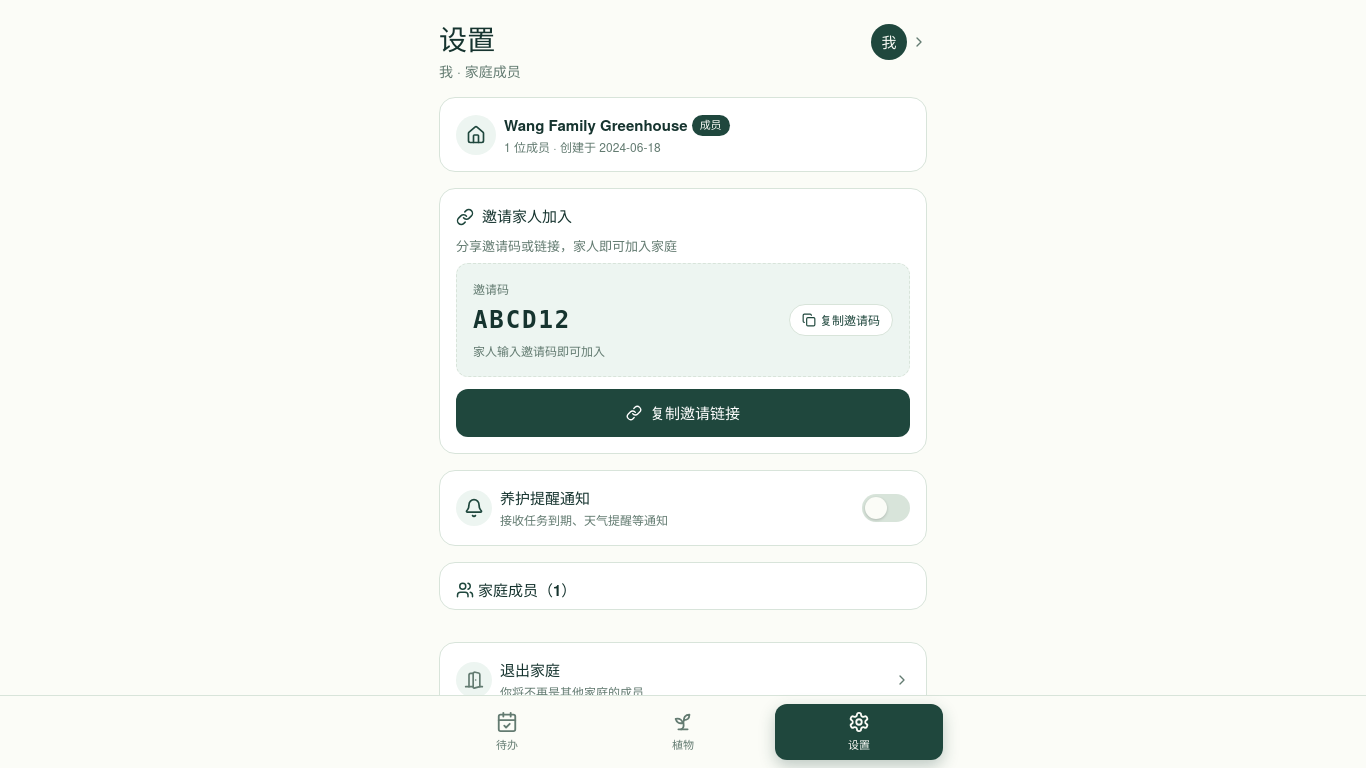
Scenario: AppShell smoke coverage › shows a manual copy fallback panel when clipboard write fails
What coordinates should you click on to do the following:
click the button "复制邀请码"
I would click on:
 (841, 320)
Its box is [789,304,893,336].
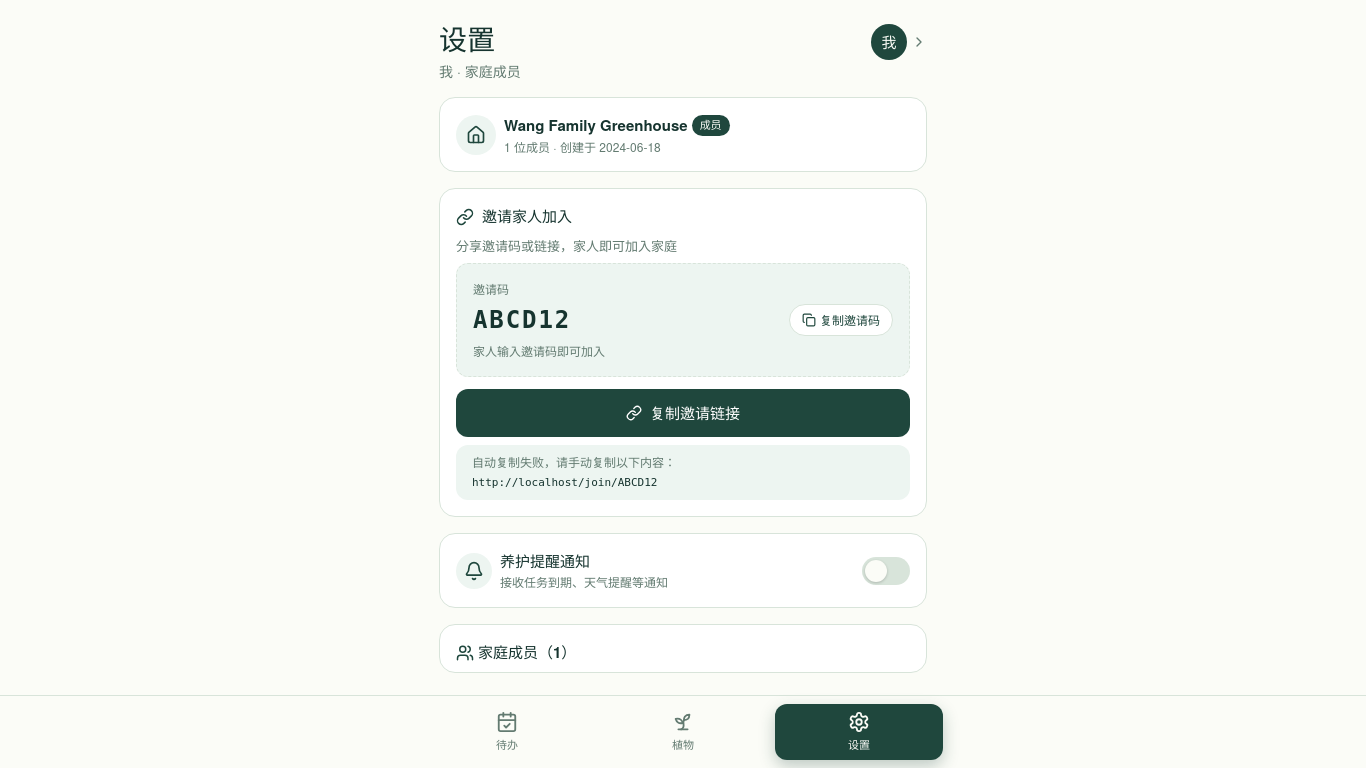
Now the text "自动复制失败，请手动复制以下内容：" is shown, box [472,454,676,470]
